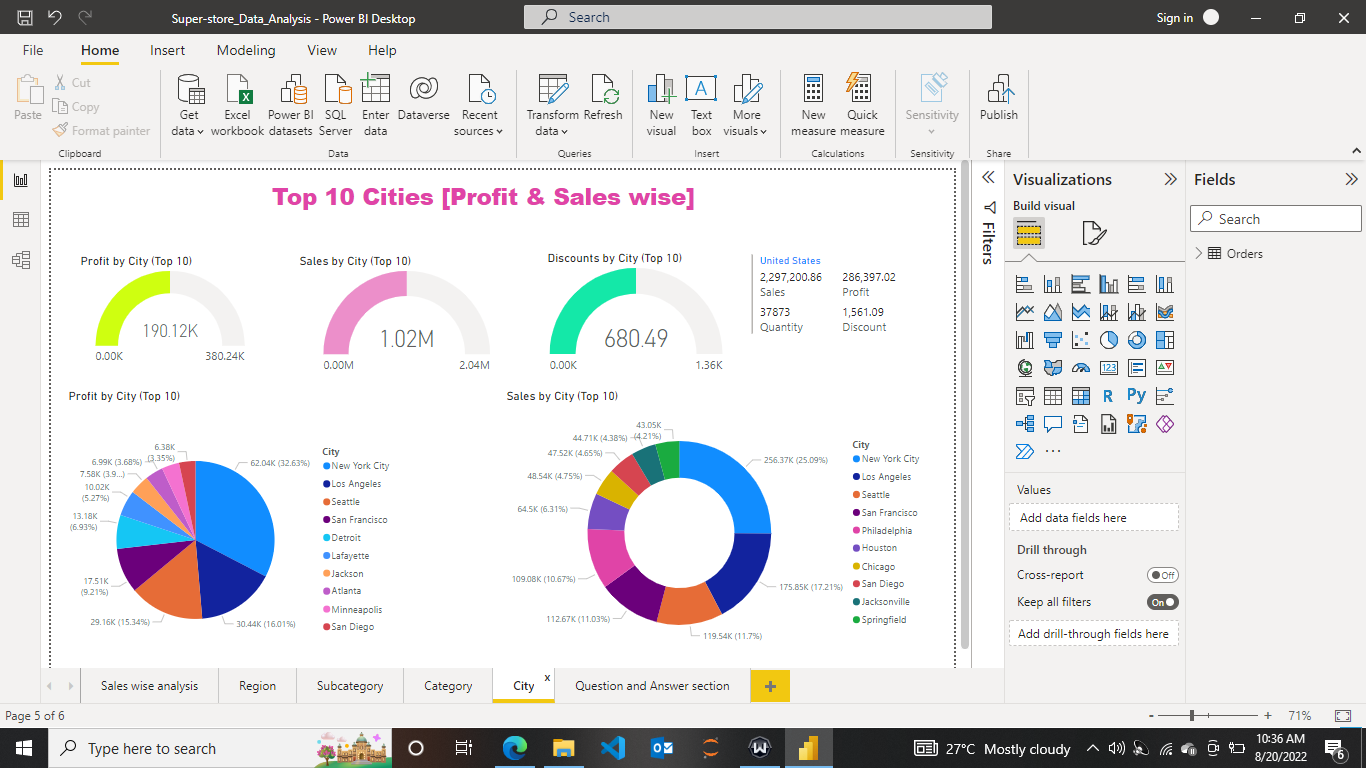

This screenshot's page, from the dashboard's own definition file:
{"tool":"powerbi","page":{"name":"City","canvas":[1280,720],"ordinal":4},"visuals":[{"type":"pieChart","title":"Profit by City (Top 10)","fields":{"Category":["Orders.City"],"Y":["Sum(Orders.Profit)"]},"box":[19.2,310.4,473.8,409.3],"z":0},{"type":"donutChart","title":"Sales by City (Top 10)","fields":{"Category":["Orders.City"],"Y":["Sum(Orders.Sales)"]},"box":[640,310.4,604.3,388.7],"z":1000},{"type":"multiRowCard","fields":{"Values":["Orders.Country","Sum(Orders.Sales)","Sum(Orders.Profit)","Sum(Orders.Quantity)","Sum(Orders.Discount)"]},"box":[988.1,115.1,255.4,168.4],"z":2000},{"type":"textbox","box":[58,9.3,1109.8,75.7],"z":3000},{"type":"gauge","title":"Profit by City (Top 10)","fields":{"Y":["Sum(Orders.Profit)"]},"box":[36.5,119.3,263.9,165.6],"z":4000},{"type":"gauge","title":"Sales by City (Top 10)","fields":{"Y":["Sum(Orders.Sales)"]},"box":[346.7,119.3,314.4,178.2],"z":5000},{"type":"gauge","title":"Discounts by City (Top 10)","fields":{"Y":["Sum(Orders.Discount)"]},"box":[698.9,115.1,261.1,182.5],"z":6000}]}

Visuals, with their boxes on the page's 1280x720 design canvas (x1, y1, x2, y2). These are canvas units, not pixel positions in the 1366x768 screenshot, which may show the page scaled, cropped or inside an application window:
"Profit by City (Top 10)" pieChart: Rect(19, 310, 493, 720)
"Sales by City (Top 10)" donutChart: Rect(640, 310, 1244, 699)
multiRowCard - Orders.Country x Sum(Orders.Sales): Rect(988, 115, 1244, 284)
textbox: Rect(58, 9, 1168, 85)
"Profit by City (Top 10)" gauge: Rect(36, 119, 300, 285)
"Sales by City (Top 10)" gauge: Rect(347, 119, 661, 298)
"Discounts by City (Top 10)" gauge: Rect(699, 115, 960, 298)
